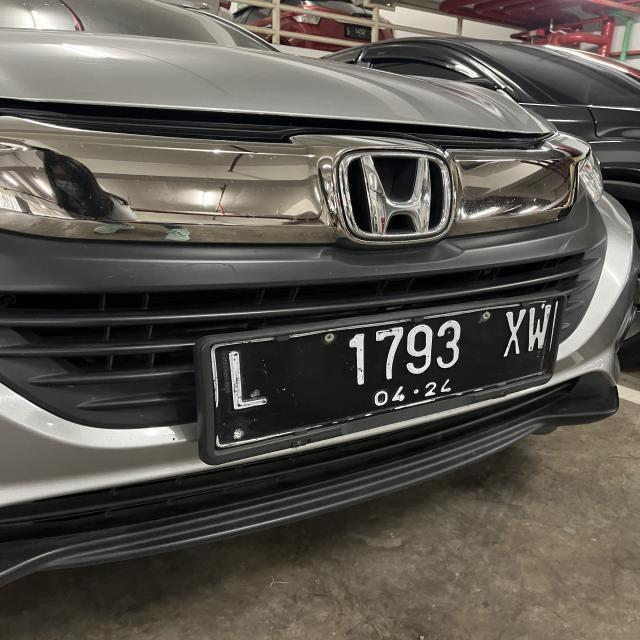1: (344, 334, 372, 392)
3: (436, 318, 466, 370)
7: (376, 328, 403, 383)
9: (408, 322, 433, 376)
L: (220, 348, 278, 410)
W: (530, 304, 552, 354)
X: (501, 306, 525, 358)
